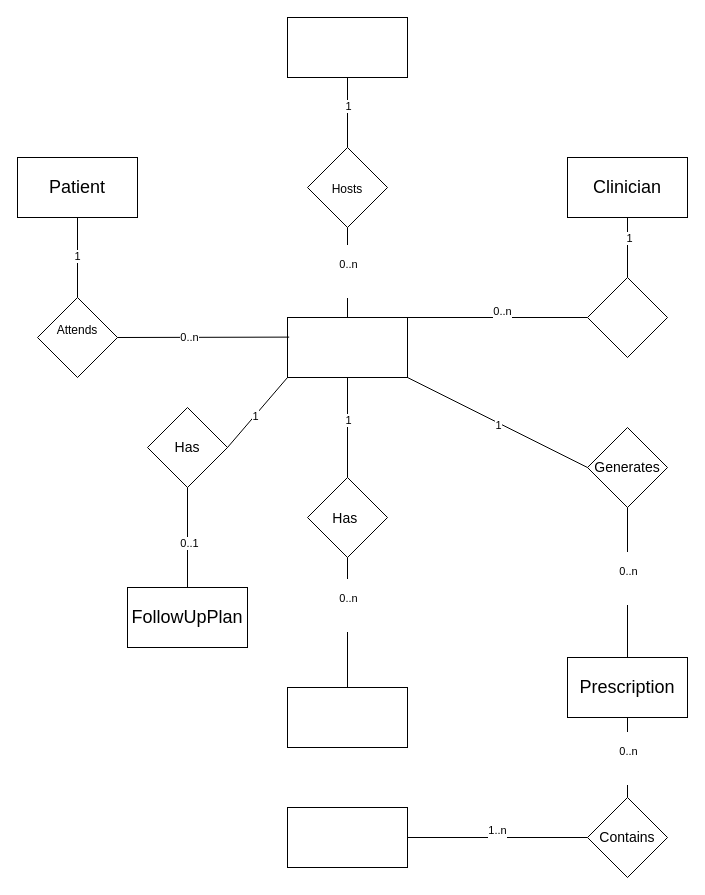
The diagram is 705 pixels wide and 895 high, and some of its shapes have lost their labels. The shapes that lost their labels are listed below. From the top down, each one's centre as x and y in pixels, then its label:
At pixel 347 47: "Clinic".
At pixel 627 317: "Conducts".
At pixel 347 347: "Appointment".
At pixel 347 717: "Diagnosis".
At pixel 347 837: "Medicine".
